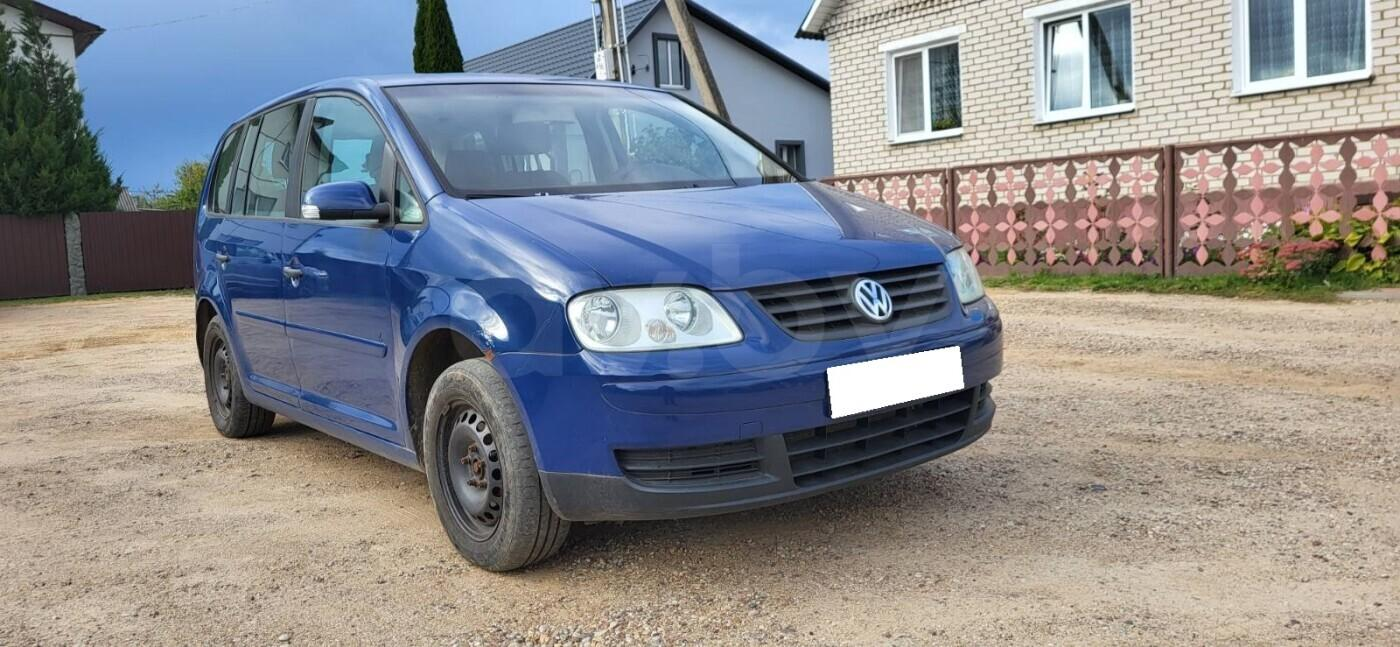Touran_2003-2006: (191, 71, 1005, 570)
